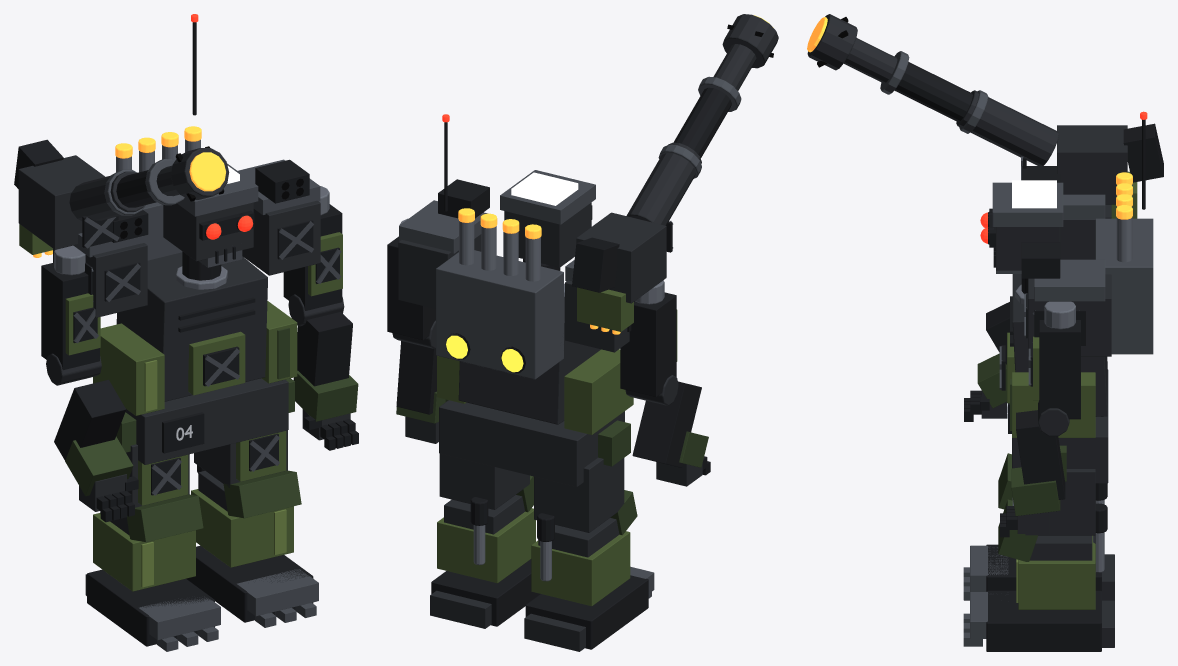
File: eradicator-mk4.glb
3 renders of one model, left to right at view 1: azimuth 30°, elevation 25°; view 2: azimuth 150°, elevation 25°; view 3: azimuth 270°, elevation 25°, orthographic. The views are drawn at different scales.
Visible parts, largest first — view 1: Eradicator MK IV; view 2: Eradicator MK IV; view 3: Eradicator MK IV.
Part boxes in pixels (x1,y1,x2,y2): Eradicator MK IV: (14, 14, 358, 651); Eradicator MK IV: (387, 14, 778, 651); Eradicator MK IV: (807, 14, 1163, 651).
Bounding box in the file's own units: 1.32 × 2.52 × 1.5.
